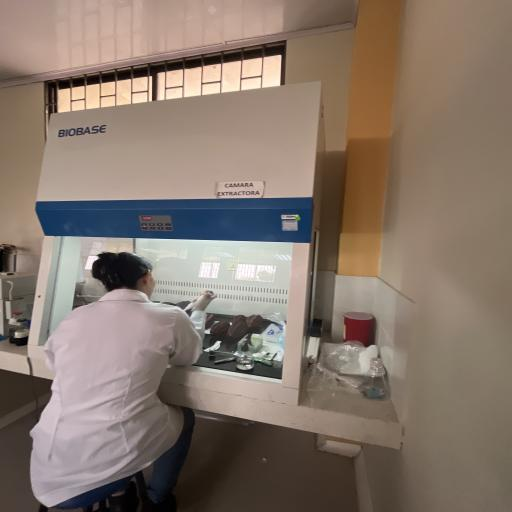Camara_Extractora_Biobase: (23, 76, 369, 417)
